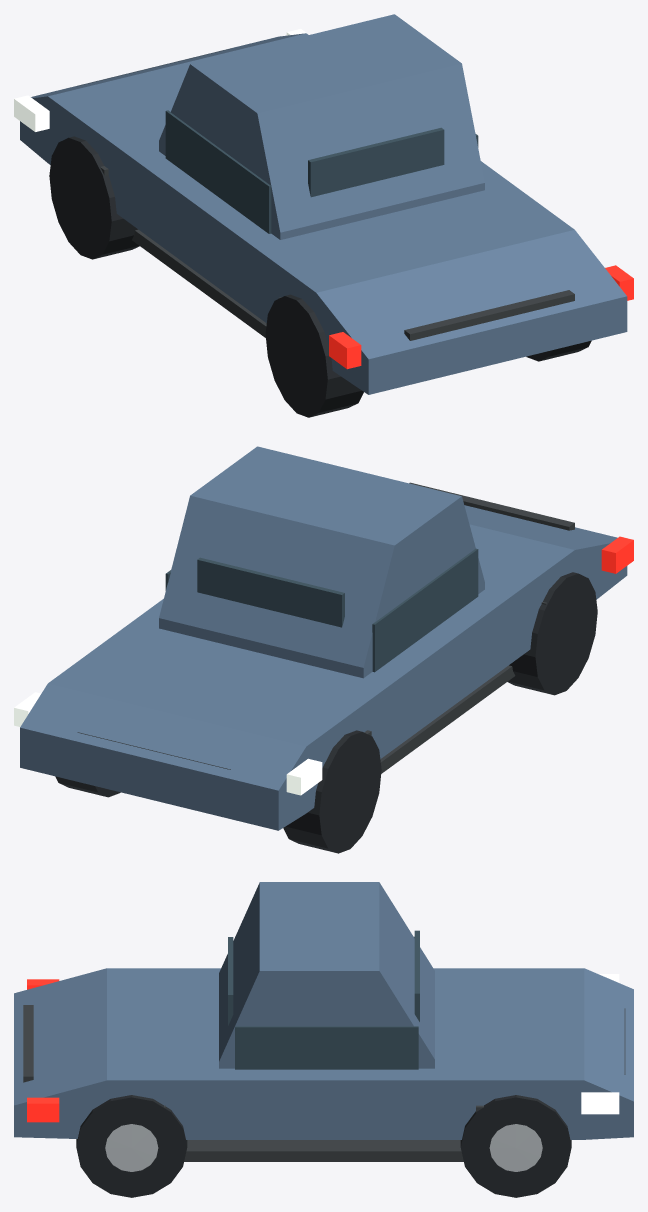
The model's file is vinfast-vf-9-plus.glb.
3 renders of one model, top to bottom at view 1: azimuth 30°, elevation 25°; view 2: azimuth 150°, elevation 25°; view 3: azimuth 270°, elevation 25°, orthographic. The views are drawn at different scales.
Visible parts, largest first — view 1: vinfast-vf-9-plus illustrative model; view 2: vinfast-vf-9-plus illustrative model; view 3: vinfast-vf-9-plus illustrative model.
Boxes of the visible parts, <box> form: vinfast-vf-9-plus illustrative model: <box>14,14,633,417</box>; vinfast-vf-9-plus illustrative model: <box>14,446,633,853</box>; vinfast-vf-9-plus illustrative model: <box>14,882,633,1197</box>.
Bounding box in the file's own units: 2.02 × 1.61 × 4.25.
